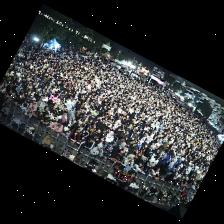person: (75, 136, 94, 157), (144, 157, 159, 174), (142, 146, 155, 162), (69, 127, 80, 145), (111, 143, 126, 156), (165, 164, 179, 177), (110, 150, 124, 163), (127, 146, 140, 159), (104, 131, 114, 147), (50, 120, 63, 132), (113, 127, 124, 141), (133, 158, 143, 173), (91, 144, 103, 156), (123, 154, 134, 167), (40, 112, 50, 126), (138, 143, 147, 157), (150, 167, 159, 181), (81, 125, 90, 139), (161, 153, 172, 164), (65, 116, 75, 128), (49, 111, 58, 124), (164, 173, 174, 184), (12, 95, 22, 106), (91, 128, 100, 140), (58, 112, 67, 124), (67, 106, 75, 119), (119, 129, 129, 139), (49, 104, 59, 114), (95, 137, 105, 147), (190, 180, 200, 190), (25, 107, 34, 118), (103, 145, 110, 159), (21, 99, 28, 113), (30, 99, 37, 112), (173, 170, 182, 180), (179, 177, 188, 187), (185, 164, 193, 175), (50, 92, 57, 104), (39, 100, 46, 112), (43, 106, 51, 116), (8, 93, 16, 103), (78, 121, 85, 132), (116, 138, 125, 146), (61, 127, 69, 136), (186, 179, 193, 189), (113, 120, 120, 130), (110, 142, 116, 152), (57, 100, 63, 110), (0, 84, 5, 95), (19, 89, 24, 99), (27, 92, 32, 102), (43, 93, 48, 101)
